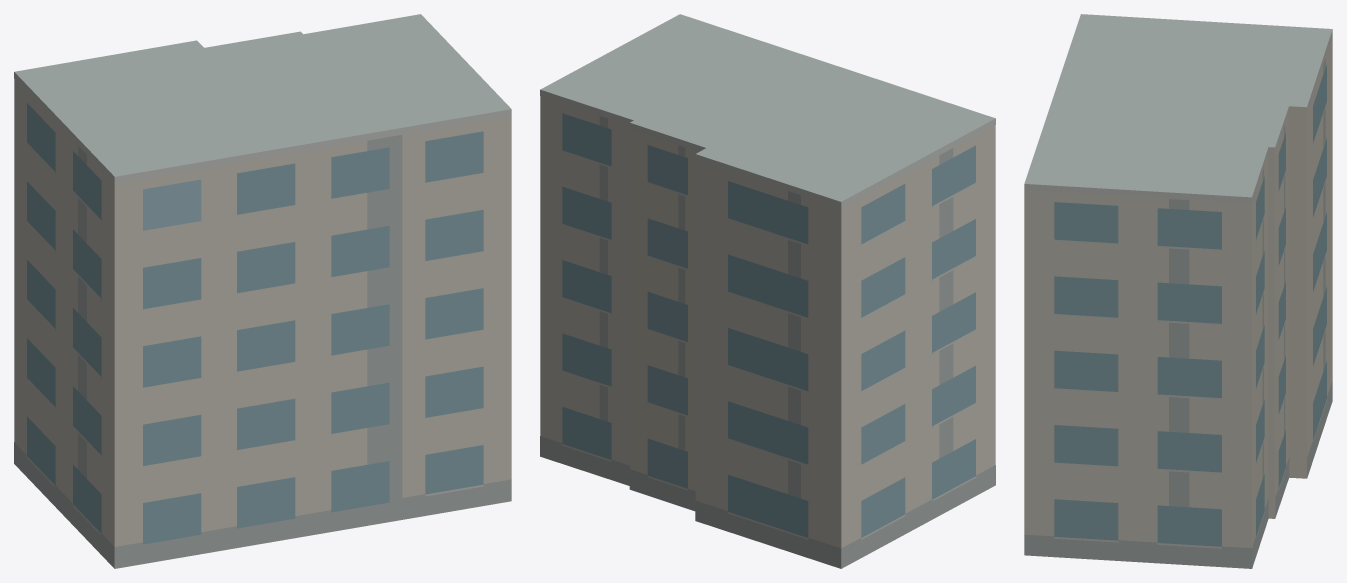
File: survey-upis-32769676.glb
3 views of the same model, side by side, from view 1: azimuth 30°, elevation 25°; view 2: azimuth 150°, elevation 25°; view 3: azimuth 270°, elevation 25° (orthographic). The views are drawn at different scales.
Visible parts, largest first — view 1: survey-upis-32769676.tmp; view 2: survey-upis-32769676.tmp; view 3: survey-upis-32769676.tmp.
Boxes of the visible parts, x1,y1,x2,y2 form: survey-upis-32769676.tmp: (14,14,511,568); survey-upis-32769676.tmp: (540,14,995,568); survey-upis-32769676.tmp: (1024,14,1332,568).
Bounding box in the file's own units: 14.51 × 13.7 × 10.32.
